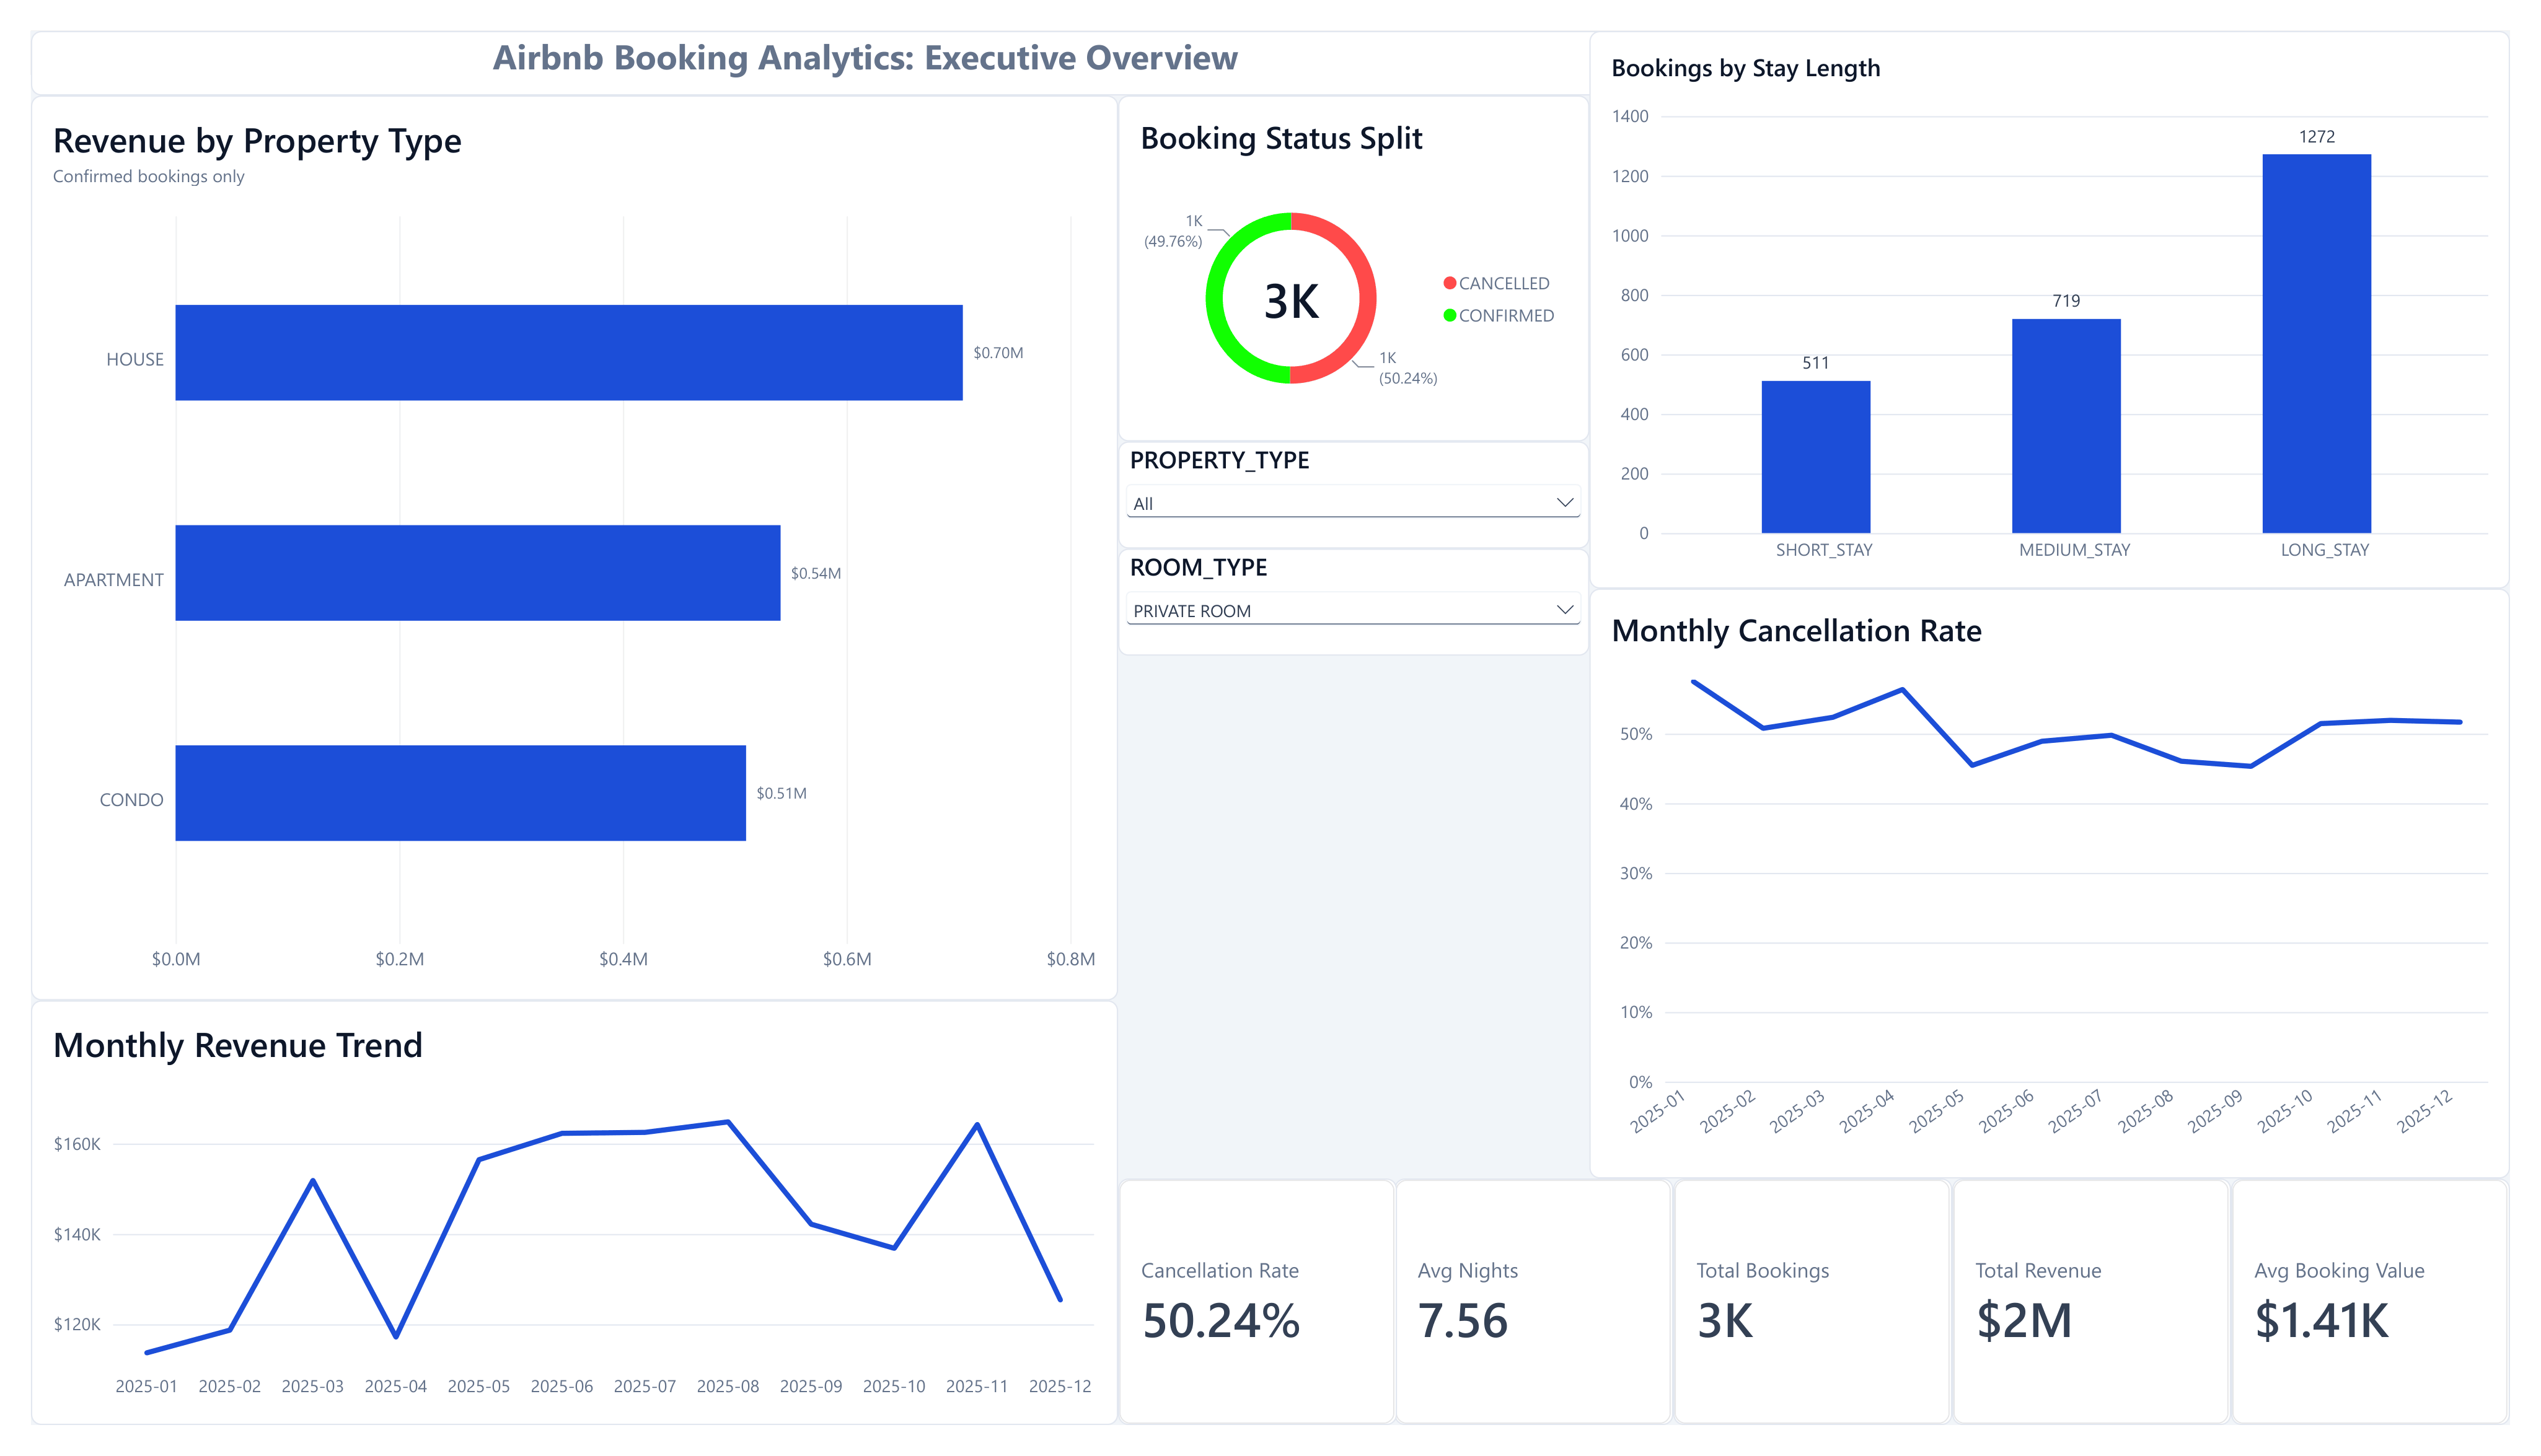

This screenshot's page, from the dashboard's own definition file:
{"tool":"powerbi","page":{"name":"Executive Overview","canvas":[1920,1080],"ordinal":0},"visuals":[{"type":"lineChart","title":"Monthly Revenue Trend","fields":{"Y":["_Measures.Total Revenue"],"Category":["Dim Date.Year-Month"]},"box":[0,751.4,841.8,328.3],"z":0},{"type":"barChart","title":"Revenue by Property Type","fields":{"Category":["DIM_LISTINGS.PROPERTY_TYPE"],"Y":["_Measures.Total Revenue"]},"box":[0,49.6,841.8,701.8],"z":1000},{"type":"donutChart","title":"Booking Status Split","fields":{"Category":["DIM_BOOKINGS.BOOKING_STATUS_CATEGORY"],"Y":["_Measures.Total Bookings"]},"box":[841.8,49.6,364.7,268.4],"z":2000},{"type":"slicer","fields":{"Values":["DIM_LISTINGS.PROPERTY_TYPE"]},"box":[841.8,318.1,364.7,83.2],"z":3000},{"type":"textbox","box":[0,0,1292.6,49.6],"z":4000},{"type":"lineChart","title":"Monthly Cancellation Rate","fields":{"Category":["Dim Date.Year-Month"],"Y":["_Measures.Cancellation Rate"]},"box":[1206.6,431.9,713.4,456.7],"z":5000},{"type":"clusteredColumnChart","title":"Bookings by Stay Length","fields":{"Y":["_Measures.Total Bookings"],"Category":["DIM_BOOKINGS.STAY_CATEGORY"]},"box":[1206.6,0,713.4,431.9],"z":6000},{"type":"cardVisual","fields":{"Data":["_Measures.Total Revenue"]},"box":[1488.1,888.5,215.9,191.1],"z":7000},{"type":"cardVisual","fields":{"Data":["_Measures.Total Bookings"]},"box":[1272.2,888.5,215.9,191.1],"z":8000},{"type":"cardVisual","fields":{"Data":["_Measures.Avg Booking Value"]},"box":[1704.1,888.5,215.9,191.1],"z":9000},{"type":"cardVisual","fields":{"Data":["_Measures.Avg Nights"]},"box":[1056.3,888.5,215.9,191.1],"z":10000},{"type":"cardVisual","fields":{"Data":["_Measures.Cancellation Rate"]},"box":[841.8,888.5,215.9,191.1],"z":11000},{"type":"slicer","fields":{"Values":["DIM_LISTINGS.ROOM_TYPE"]},"box":[841.8,401.2,364.7,83.2],"z":12000}]}

Visuals, with their boxes on the page's 1920x1080 design canvas (x1, y1, x2, y2). These are canvas units, not pixel positions in the 2541x1456 screenshot, which may show the page scaled, cropped or inside an application window:
"Monthly Revenue Trend" lineChart: l=0, t=751, r=842, b=1080
"Revenue by Property Type" barChart: l=0, t=50, r=842, b=751
"Booking Status Split" donutChart: l=842, t=50, r=1206, b=318
slicer - DIM_LISTINGS.PROPERTY_TYPE: l=842, t=318, r=1206, b=401
textbox: l=0, t=0, r=1293, b=50
"Monthly Cancellation Rate" lineChart: l=1207, t=432, r=1920, b=889
"Bookings by Stay Length" clusteredColumnChart: l=1207, t=0, r=1920, b=432
cardVisual - _Measures.Total Revenue: l=1488, t=888, r=1704, b=1080
cardVisual - _Measures.Total Bookings: l=1272, t=888, r=1488, b=1080
cardVisual - _Measures.Avg Booking Value: l=1704, t=888, r=1920, b=1080
cardVisual - _Measures.Avg Nights: l=1056, t=888, r=1272, b=1080
cardVisual - _Measures.Cancellation Rate: l=842, t=888, r=1058, b=1080
slicer - DIM_LISTINGS.ROOM_TYPE: l=842, t=401, r=1206, b=484
